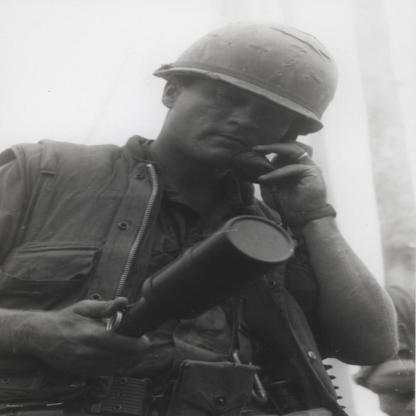Helmet: (148, 20, 338, 141)
